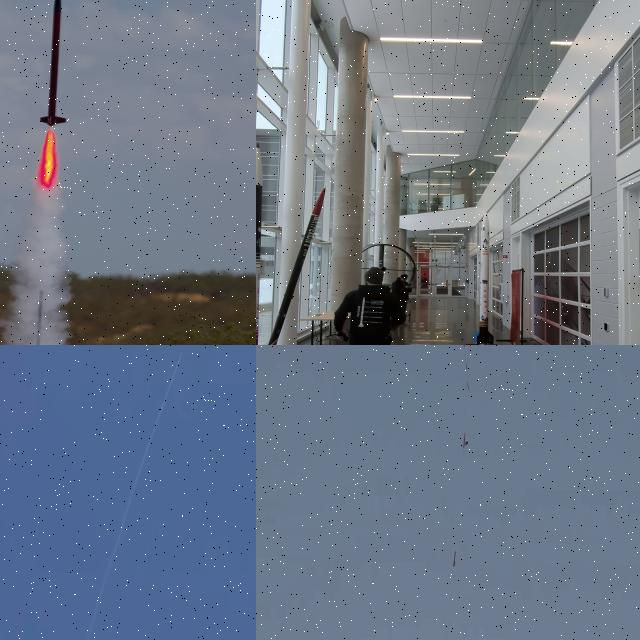Rocket: (268, 185, 326, 345), (38, 0, 68, 126), (474, 210, 494, 345), (256, 143, 263, 345), (452, 550, 456, 567), (182, 349, 183, 353)
